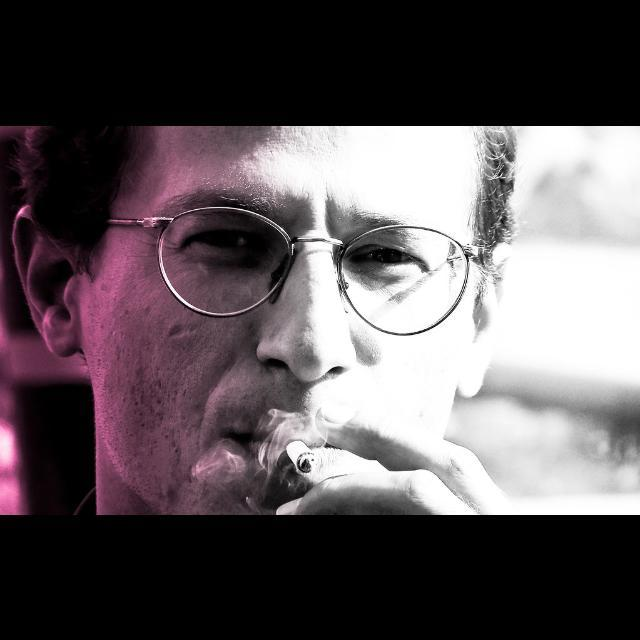rokok: (284, 436, 320, 470)
